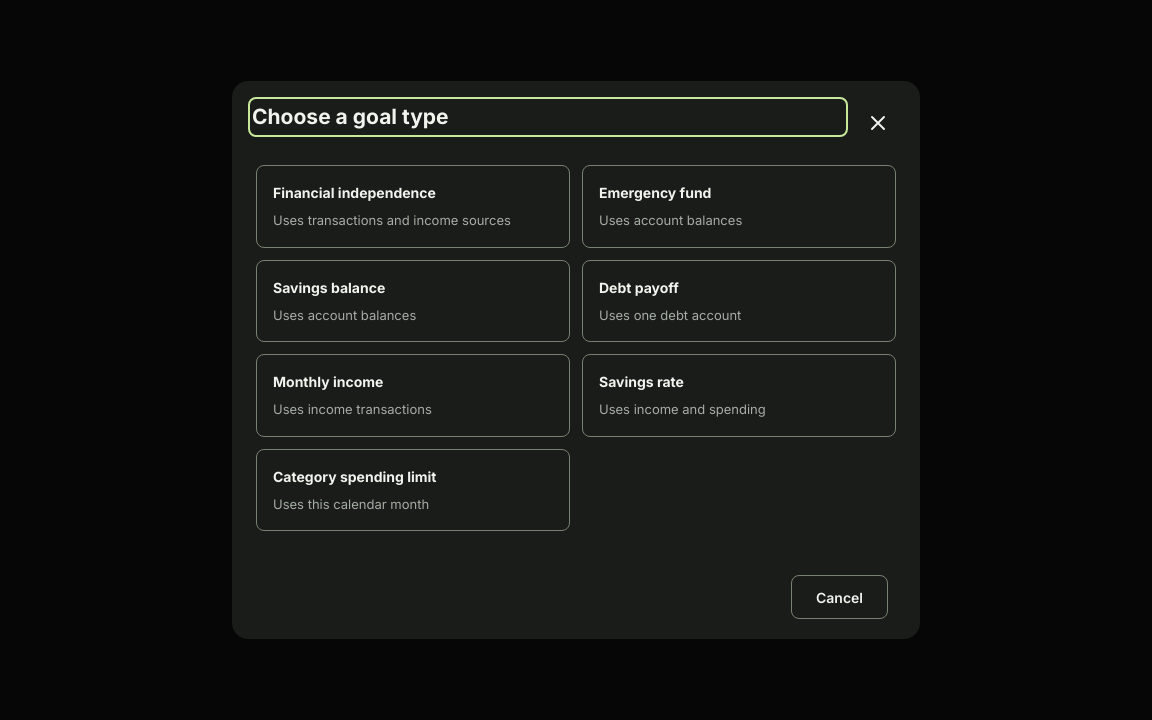
GoalEditor › keeps invalid essential-cost text in place and sends no destructive write
Click the button "Financial independence Uses transactions and income sources" at (354, 192), box [256, 165, 570, 248]
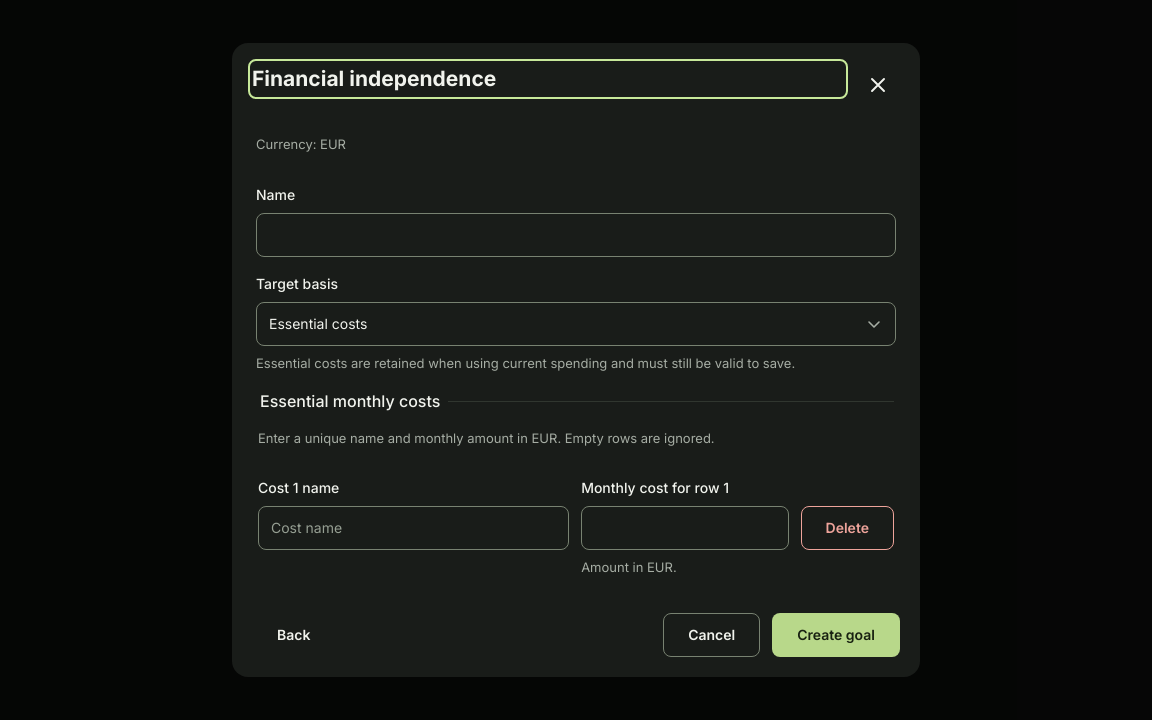
Type "Independence" into the field labelled "Name" at (576, 235), box [256, 213, 896, 257]
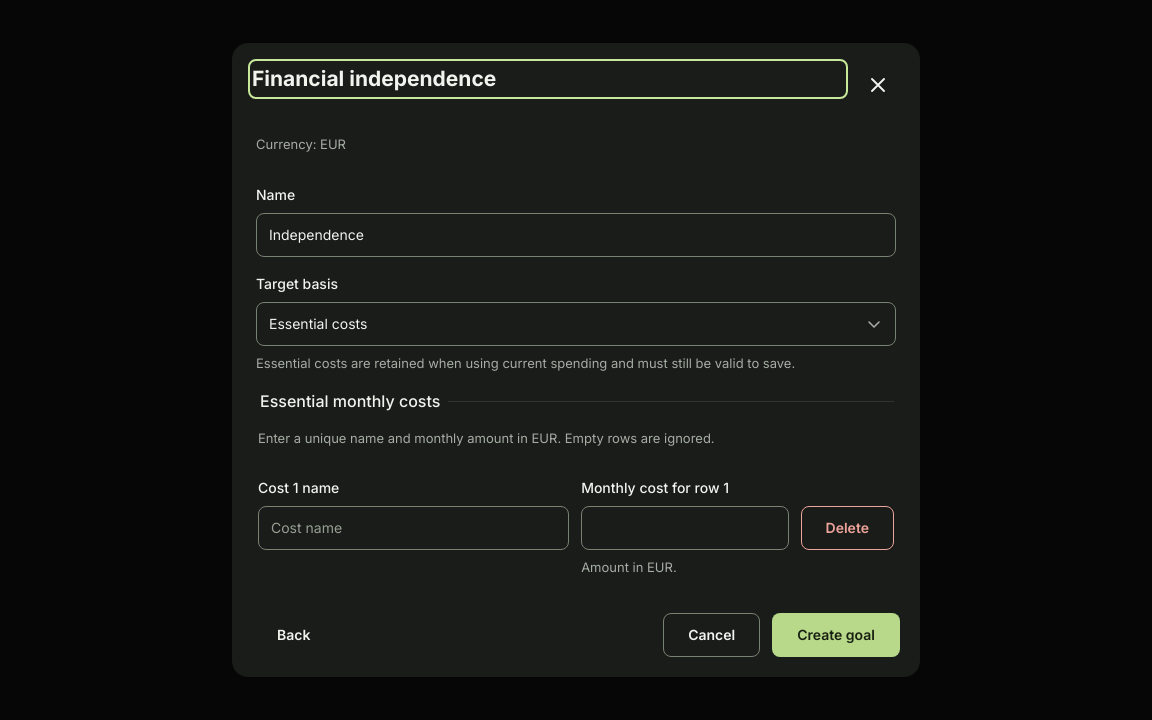
Type "Rent" into the field labelled "Cost 1 name" at (414, 528), box [258, 506, 569, 550]
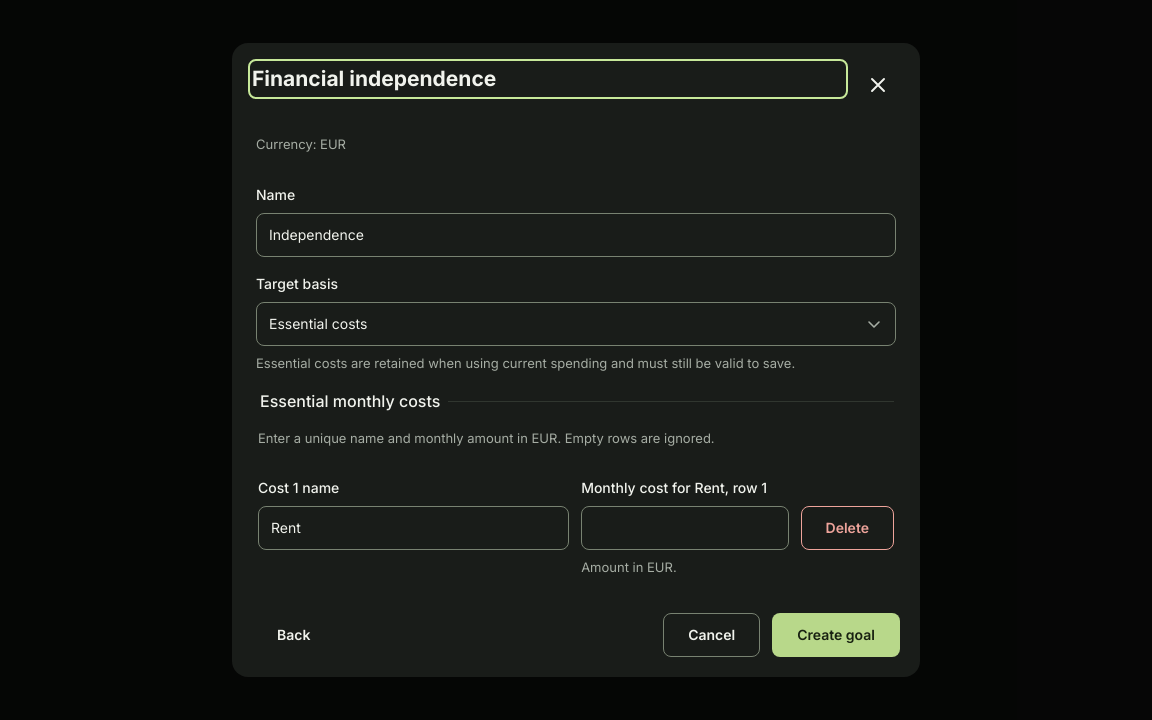
Type "not a number" into the field labelled "Monthly cost for Rent, row 1" at (685, 528), box [581, 506, 788, 550]
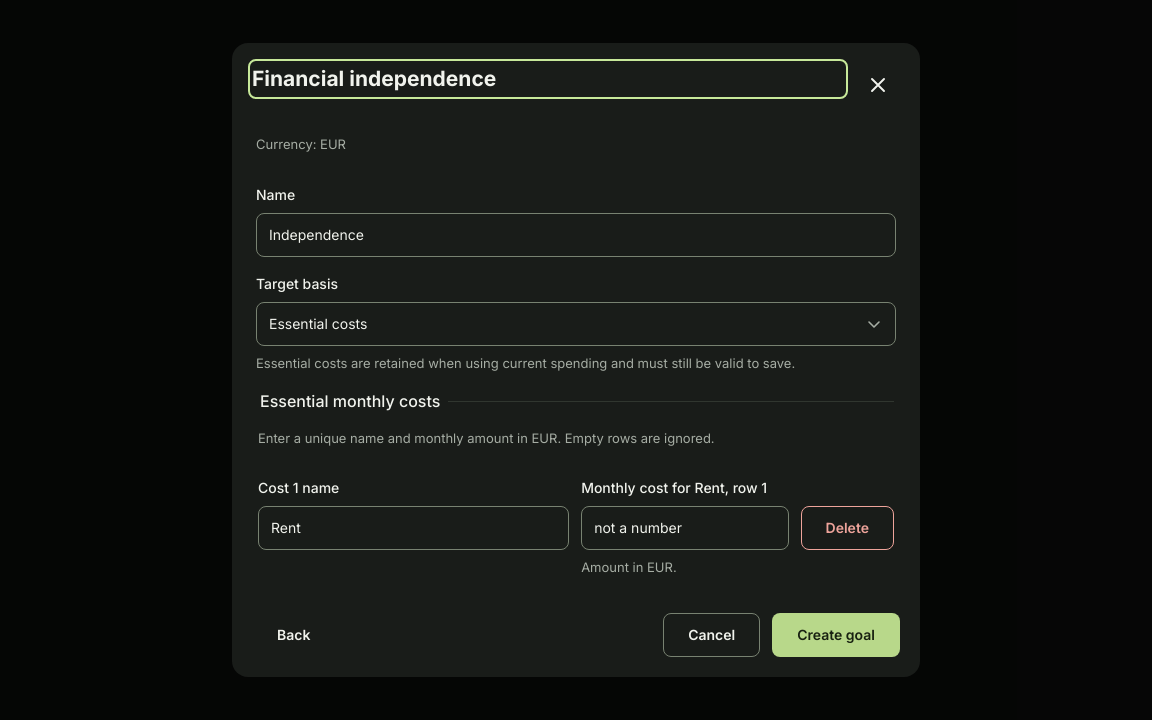
Click the button "Create goal" at (836, 635), box [772, 613, 900, 657]
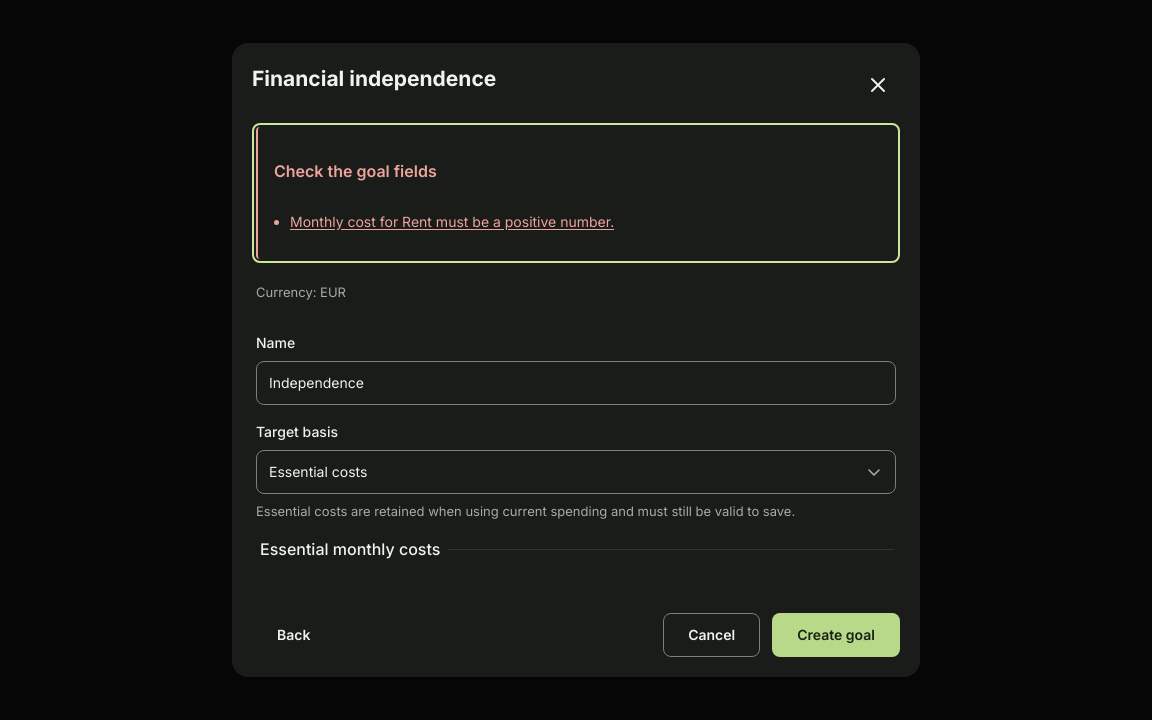
Expected: the message shows "Monthly cost for Rent must be a positive number.", [290, 199, 880, 243]
